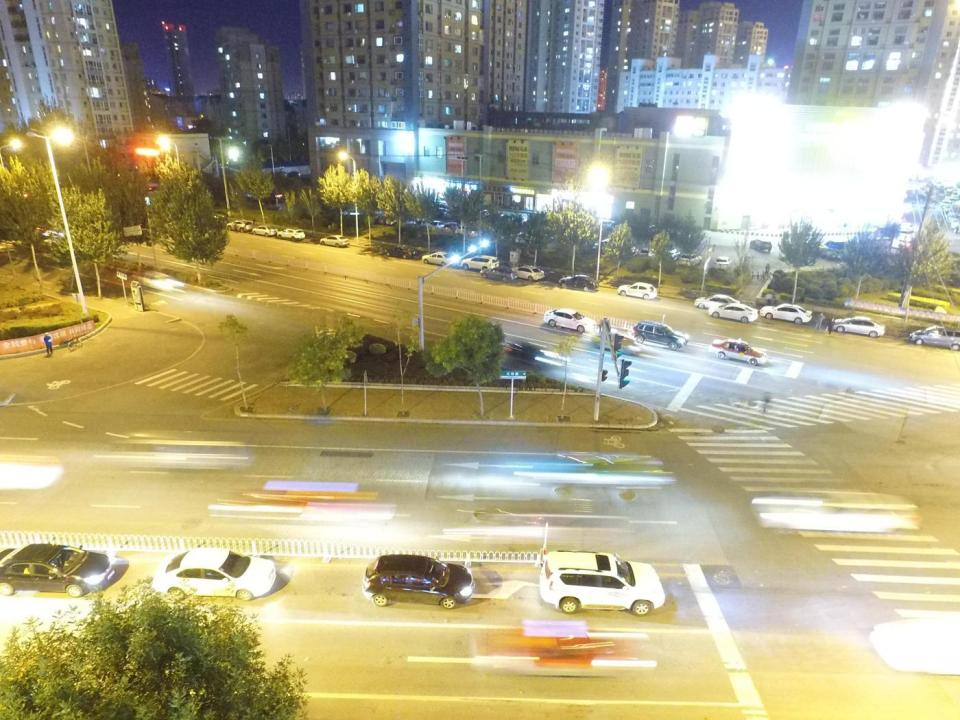car: (473, 621, 656, 678), (210, 479, 395, 532), (464, 453, 664, 490), (0, 543, 115, 599), (156, 550, 277, 602), (364, 554, 478, 609), (503, 341, 569, 370), (632, 321, 690, 351), (710, 338, 768, 366), (543, 307, 597, 333), (590, 330, 640, 356), (830, 316, 886, 337), (760, 303, 812, 324), (708, 302, 758, 323), (693, 294, 739, 310), (617, 282, 657, 300), (558, 275, 599, 291), (512, 264, 545, 282), (480, 266, 517, 282), (421, 251, 454, 267), (385, 246, 418, 259), (277, 228, 305, 242), (320, 234, 350, 247), (226, 220, 253, 233), (252, 225, 278, 236), (679, 254, 702, 266), (714, 256, 732, 270), (661, 248, 680, 261), (444, 222, 460, 233), (639, 248, 652, 261), (267, 193, 284, 202), (430, 220, 444, 230), (601, 220, 618, 228), (286, 172, 300, 178)
van: (540, 550, 666, 616), (909, 324, 960, 350), (461, 255, 499, 272), (750, 239, 772, 252)
